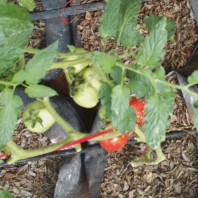tomato: (20, 98, 59, 136), (99, 123, 132, 153), (71, 84, 100, 108), (60, 47, 90, 70), (128, 96, 150, 125), (81, 67, 106, 90)
